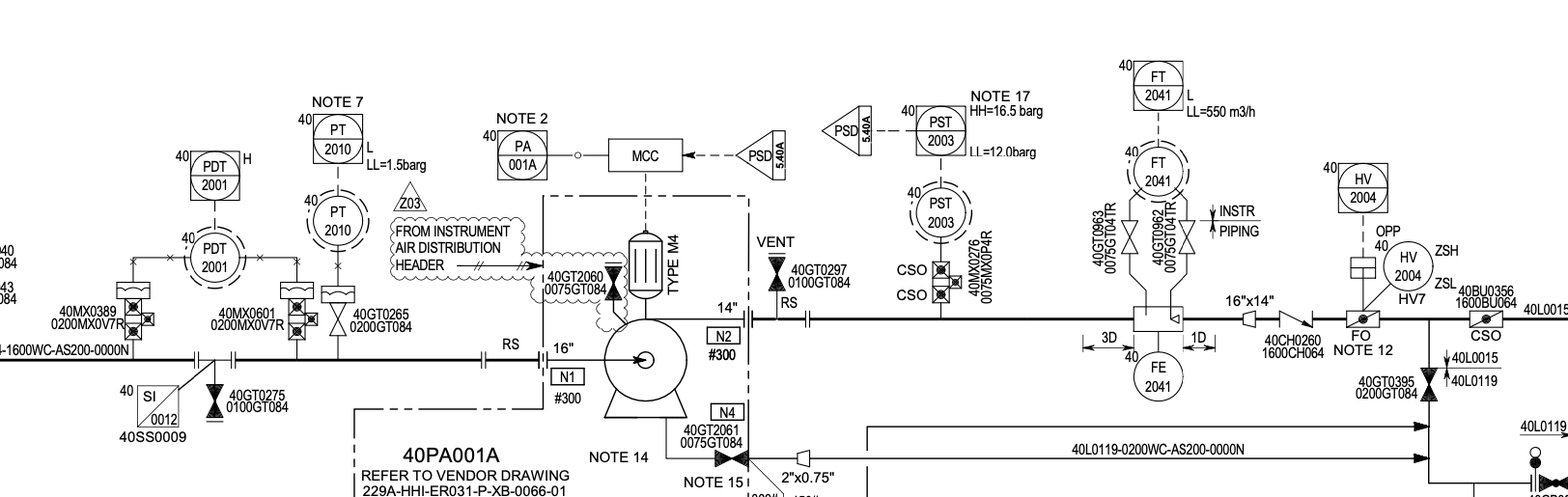Instrument: (300, 188, 375, 248), (898, 185, 967, 238), (180, 231, 244, 286), (1123, 347, 1185, 403), (1373, 238, 1434, 292), (1122, 141, 1185, 193)
Instrument-square: (476, 124, 550, 184), (1320, 156, 1393, 216), (294, 107, 365, 166), (897, 100, 967, 159), (177, 147, 243, 202), (1115, 59, 1186, 110)
